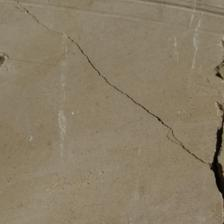Crack: (21, 6, 210, 166), (211, 100, 224, 205)
